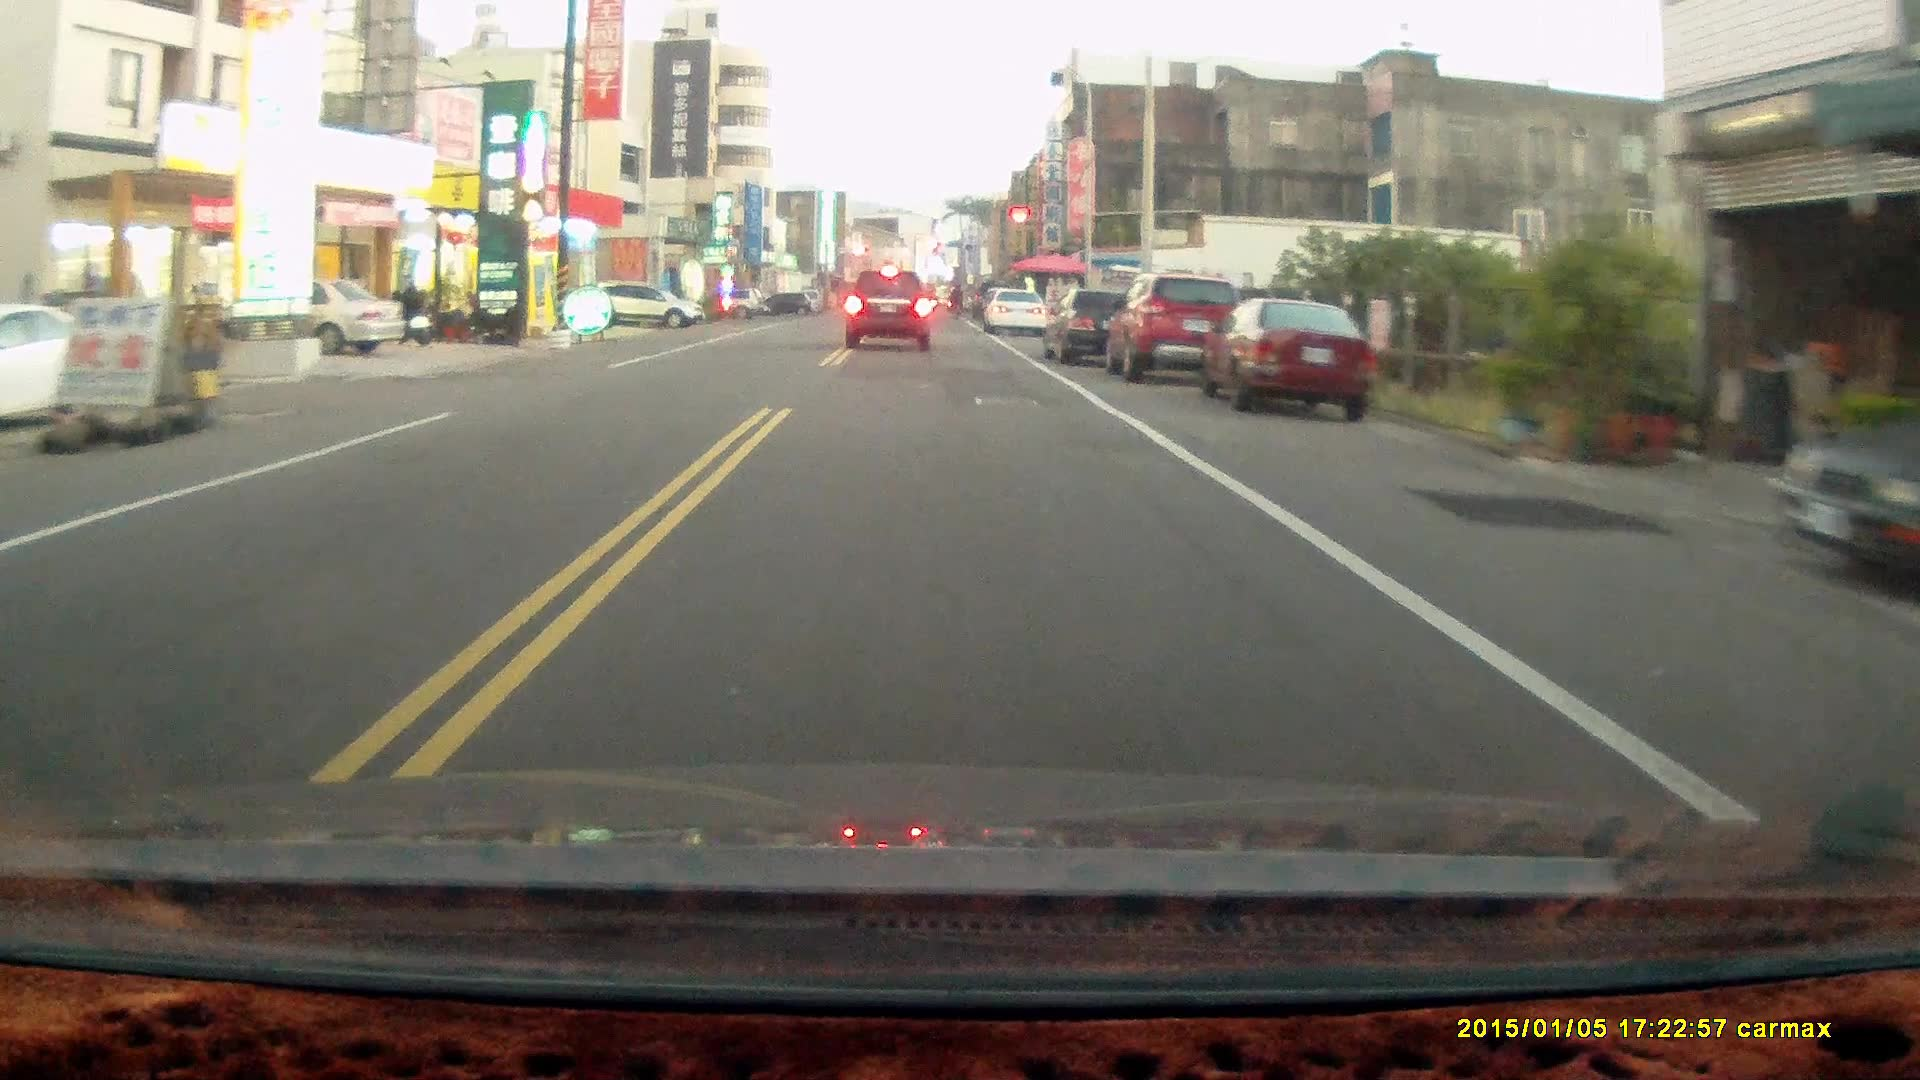vehicle: (1767, 367, 1920, 597), (1197, 299, 1383, 422), (1, 302, 125, 430), (1106, 276, 1247, 385), (218, 278, 407, 357), (1043, 291, 1160, 368), (844, 272, 935, 353), (596, 281, 700, 328), (984, 289, 1050, 340)
